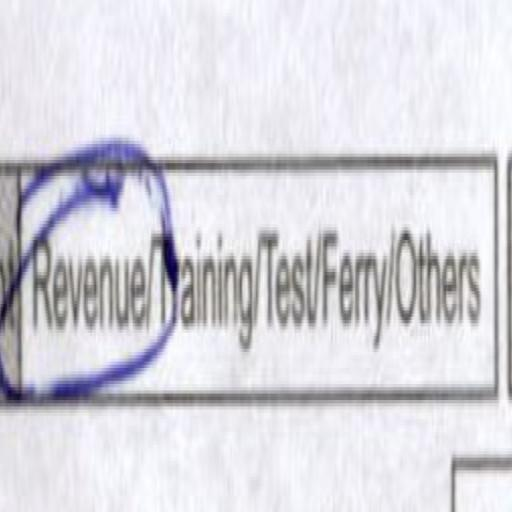check: (23, 96, 152, 432)
